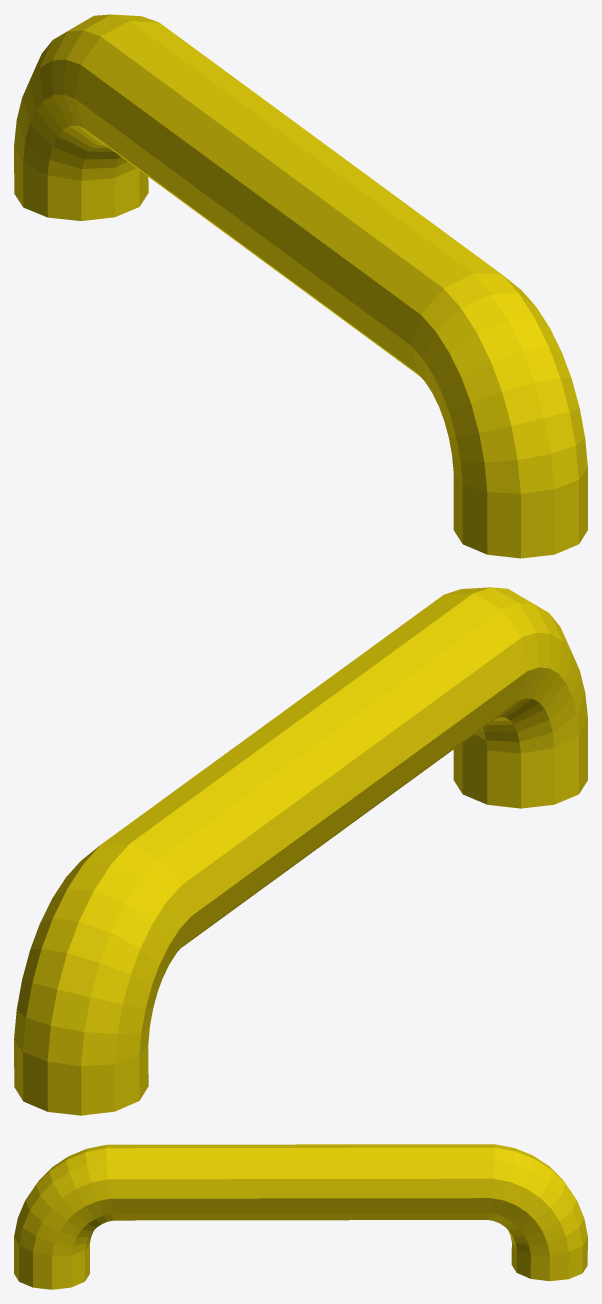
The model's file is fat_pipe_1.dae.
3 views of the same model, one above another, from view 1: azimuth 30°, elevation 25°; view 2: azimuth 150°, elevation 25°; view 3: azimuth 270°, elevation 25° (orthographic). The views are drawn at different scales.
Parts seen in each view (by area): view 1: node.006; view 2: node.006; view 3: node.006.
Boxes of the visible parts, <box> form: node.006: <box>14,14,587,558</box>; node.006: <box>14,587,587,1115</box>; node.006: <box>14,1144,587,1289</box>.
Size of the model in its own units: 1.4 by 10.57 by 2.56.
